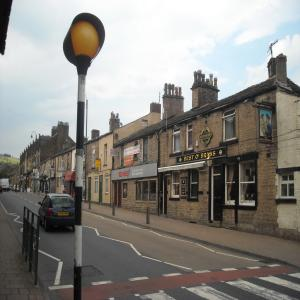Vehicle-registration-plate: (59, 213, 70, 217)
